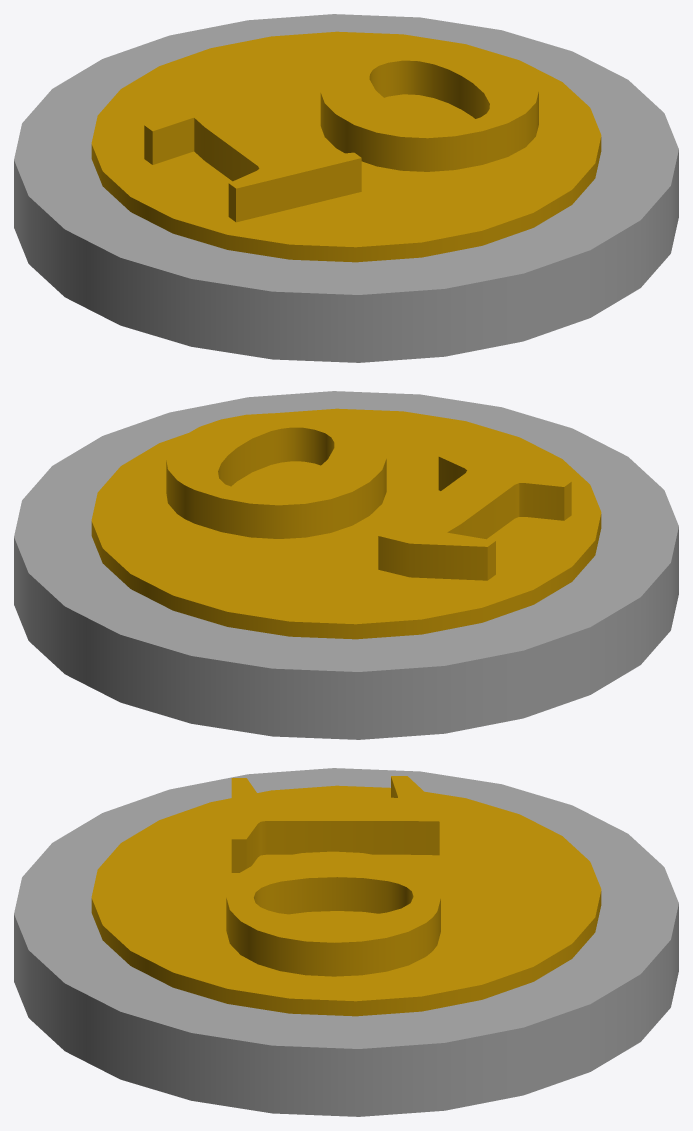
3 views of the same model, one above another, from view 1: azimuth 30°, elevation 25°; view 2: azimuth 150°, elevation 25°; view 3: azimuth 270°, elevation 25° (orthographic).
Parts seen in each view (by area): view 1: Group1, G_10_1; view 2: Group1, G_10_1; view 3: Group1, G_10_1.
Boxes of the visible parts, x1,y1,x2,y2 form: Group1: (14,14,678,362); G_10_1: (144,45,538,222); Group1: (14,391,678,739); G_10_1: (166,413,571,580); Group1: (14,768,678,1116); G_10_1: (226,776,440,976).
Bounding box in the file's own units: 5 × 0.9675 × 5.
